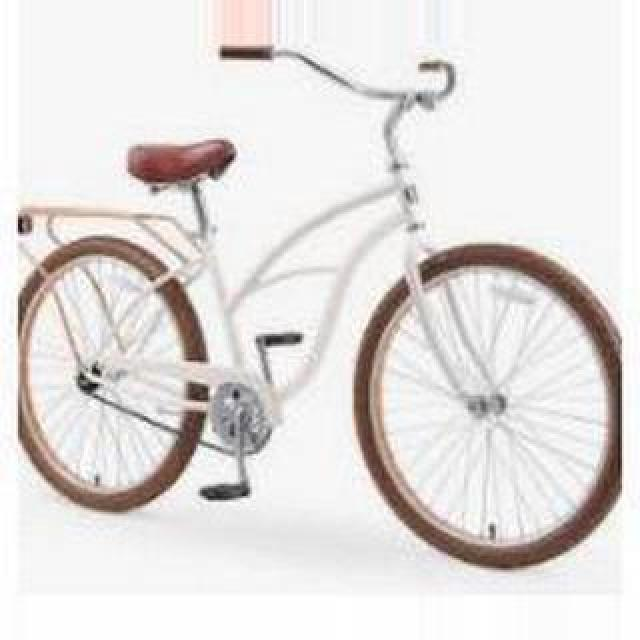Person: (15, 48, 625, 574)
